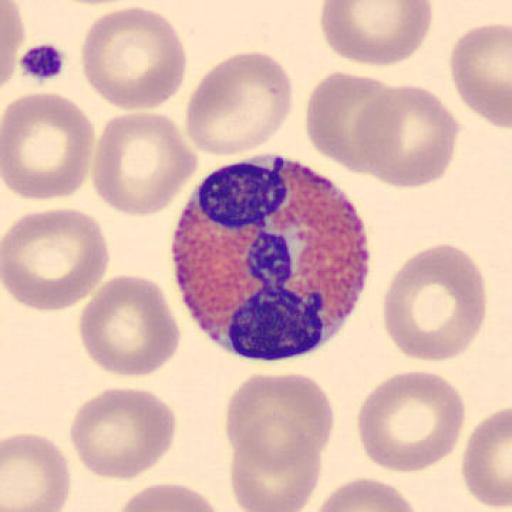RBC: (222, 371, 334, 512), (381, 241, 489, 364), (184, 49, 294, 158), (352, 81, 462, 190), (1, 206, 111, 313), (90, 110, 200, 217), (356, 368, 466, 474), (80, 5, 188, 111), (76, 272, 180, 380), (224, 371, 336, 470), (68, 385, 178, 482), (2, 91, 95, 202), (305, 69, 398, 178), (229, 420, 323, 511), (320, 1, 434, 68), (449, 22, 512, 132), (1, 431, 71, 512), (461, 404, 512, 510), (314, 475, 421, 512), (115, 481, 222, 512), (0, 0, 26, 92)
WBC: (168, 154, 371, 362)
